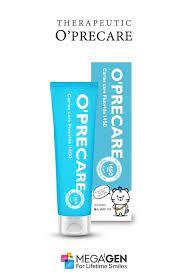toothpaste: (48, 74, 105, 238)
